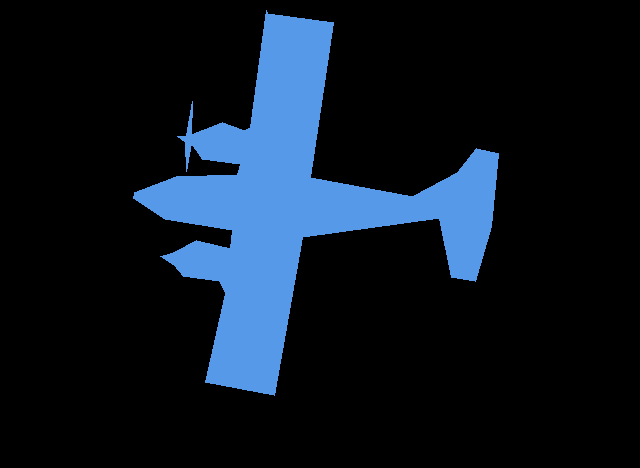Airplane: (133, 10, 498, 395)
